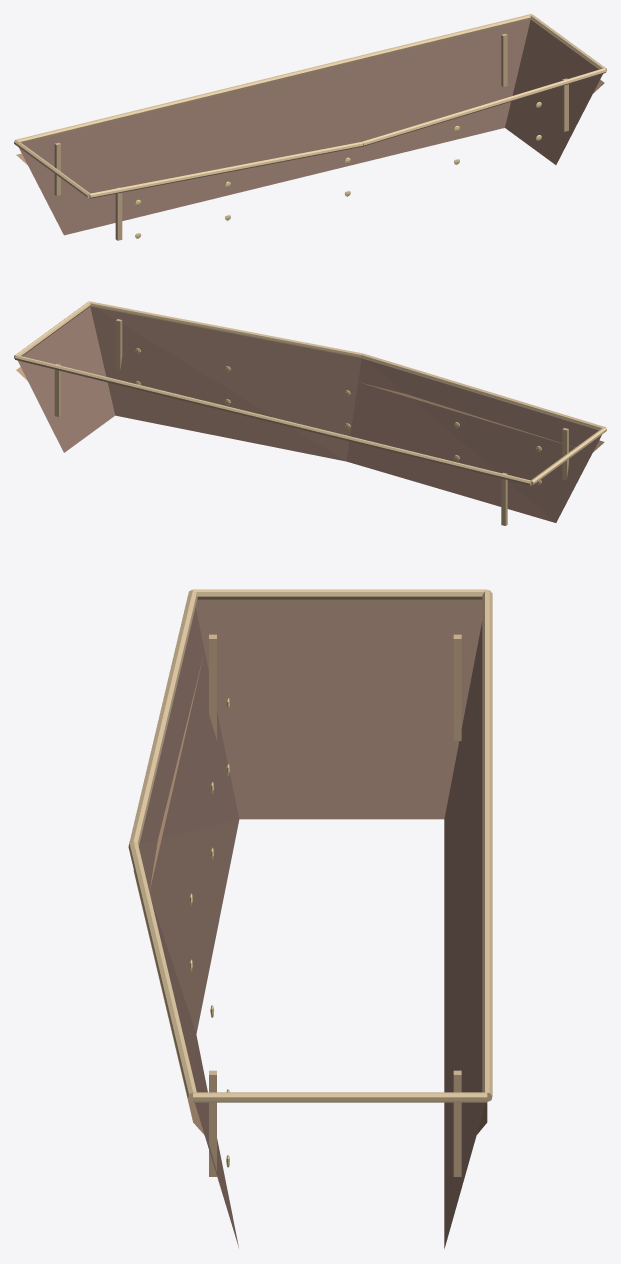
File: casco_barco.glb
The picture shows the model from 3 angles, top to bottom: view 1: azimuth 30°, elevation 25°; view 2: azimuth 150°, elevation 25°; view 3: azimuth 270°, elevation 25°; orthographic projection. The views are drawn at different scales.
Parts seen in each view (by area): view 1: casco_barco; view 2: casco_barco; view 3: casco_barco.
Boxes of the visible parts, x1,y1,x2,y2 form: casco_barco: (14, 14, 606, 240); casco_barco: (14, 301, 606, 525); casco_barco: (128, 589, 492, 1248).
Bounding box in the file's own units: 18.14 × 3.23 × 5.51.
